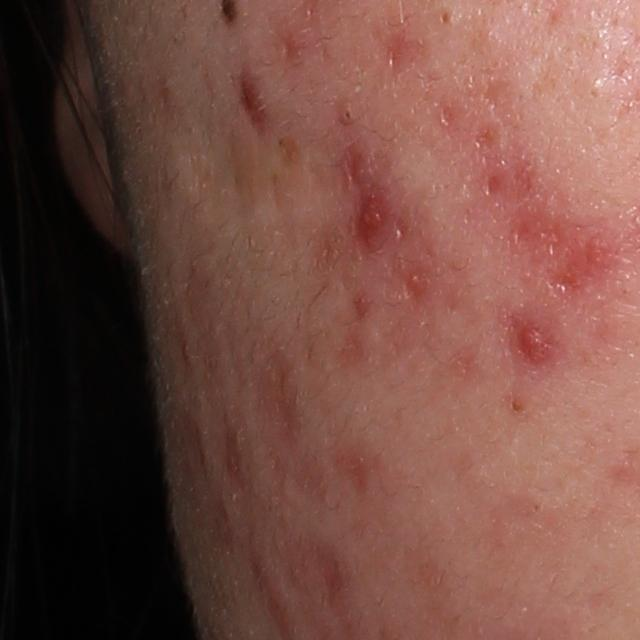atrophic_scar: (243, 346, 312, 478), (512, 196, 575, 259), (554, 234, 607, 300), (477, 156, 537, 209), (381, 22, 423, 76), (468, 117, 504, 154), (485, 77, 510, 111)
comedo: (435, 6, 455, 28), (338, 104, 356, 126), (507, 395, 526, 414)
papule: (257, 567, 292, 630), (354, 194, 391, 246), (238, 68, 269, 119), (515, 322, 550, 363)
